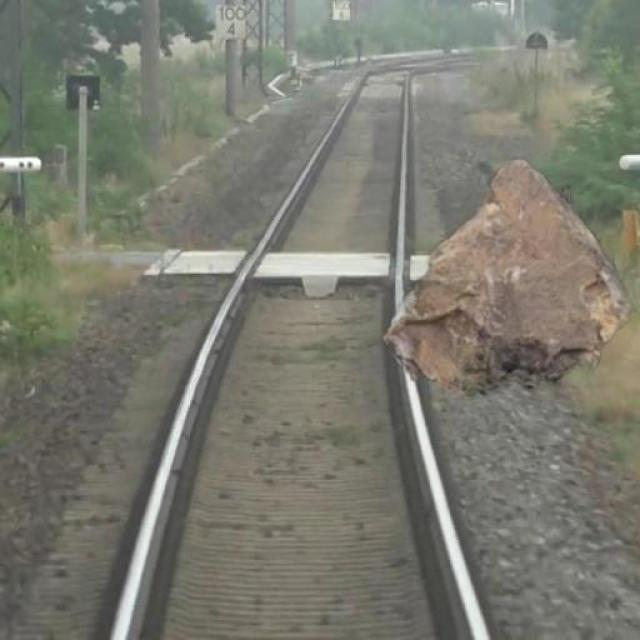Stone: (381, 160, 634, 396)
